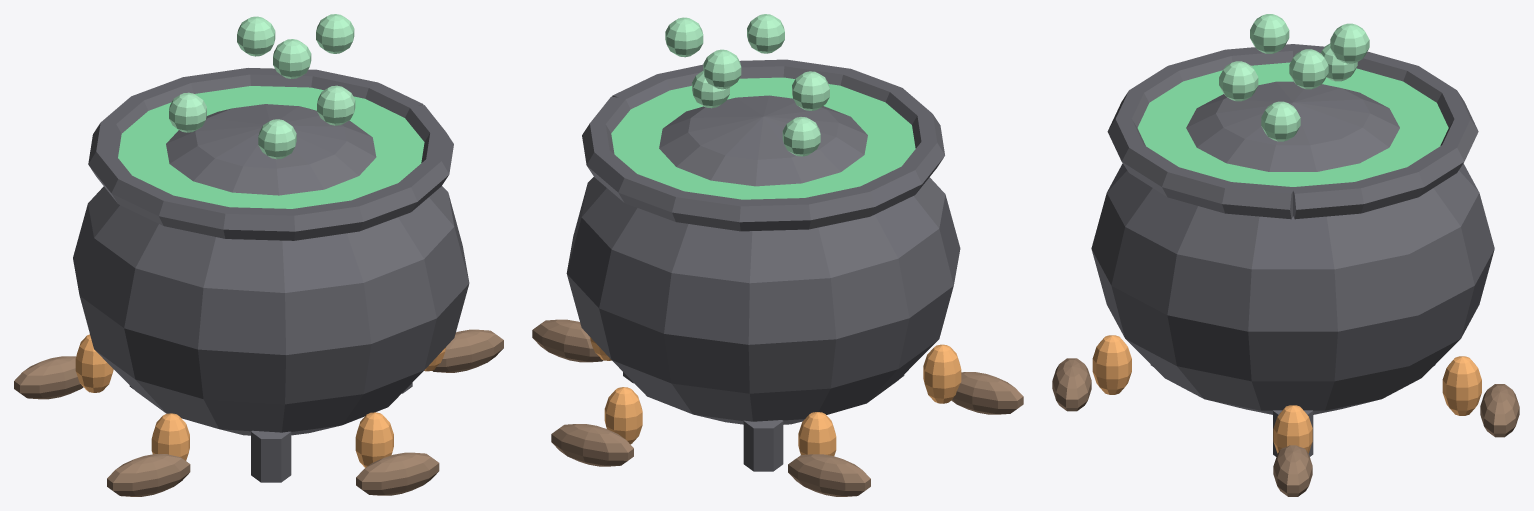
File: WitchCauldron.fbx
3 renders of one model, left to right at view 1: azimuth 30°, elevation 25°; view 2: azimuth 150°, elevation 25°; view 3: azimuth 270°, elevation 25°, orthographic.
Parts seen in each view (by area): view 1: Prop_WitchCauldron; view 2: Prop_WitchCauldron; view 3: Prop_WitchCauldron.
Boxes of the visible parts, box(x1,y1,x2,y2) form: Prop_WitchCauldron: box(14, 14, 503, 496); Prop_WitchCauldron: box(532, 14, 1023, 496); Prop_WitchCauldron: box(1052, 14, 1519, 496).
Size of the model in its own units: 1.27 by 1.05 by 1.16.
